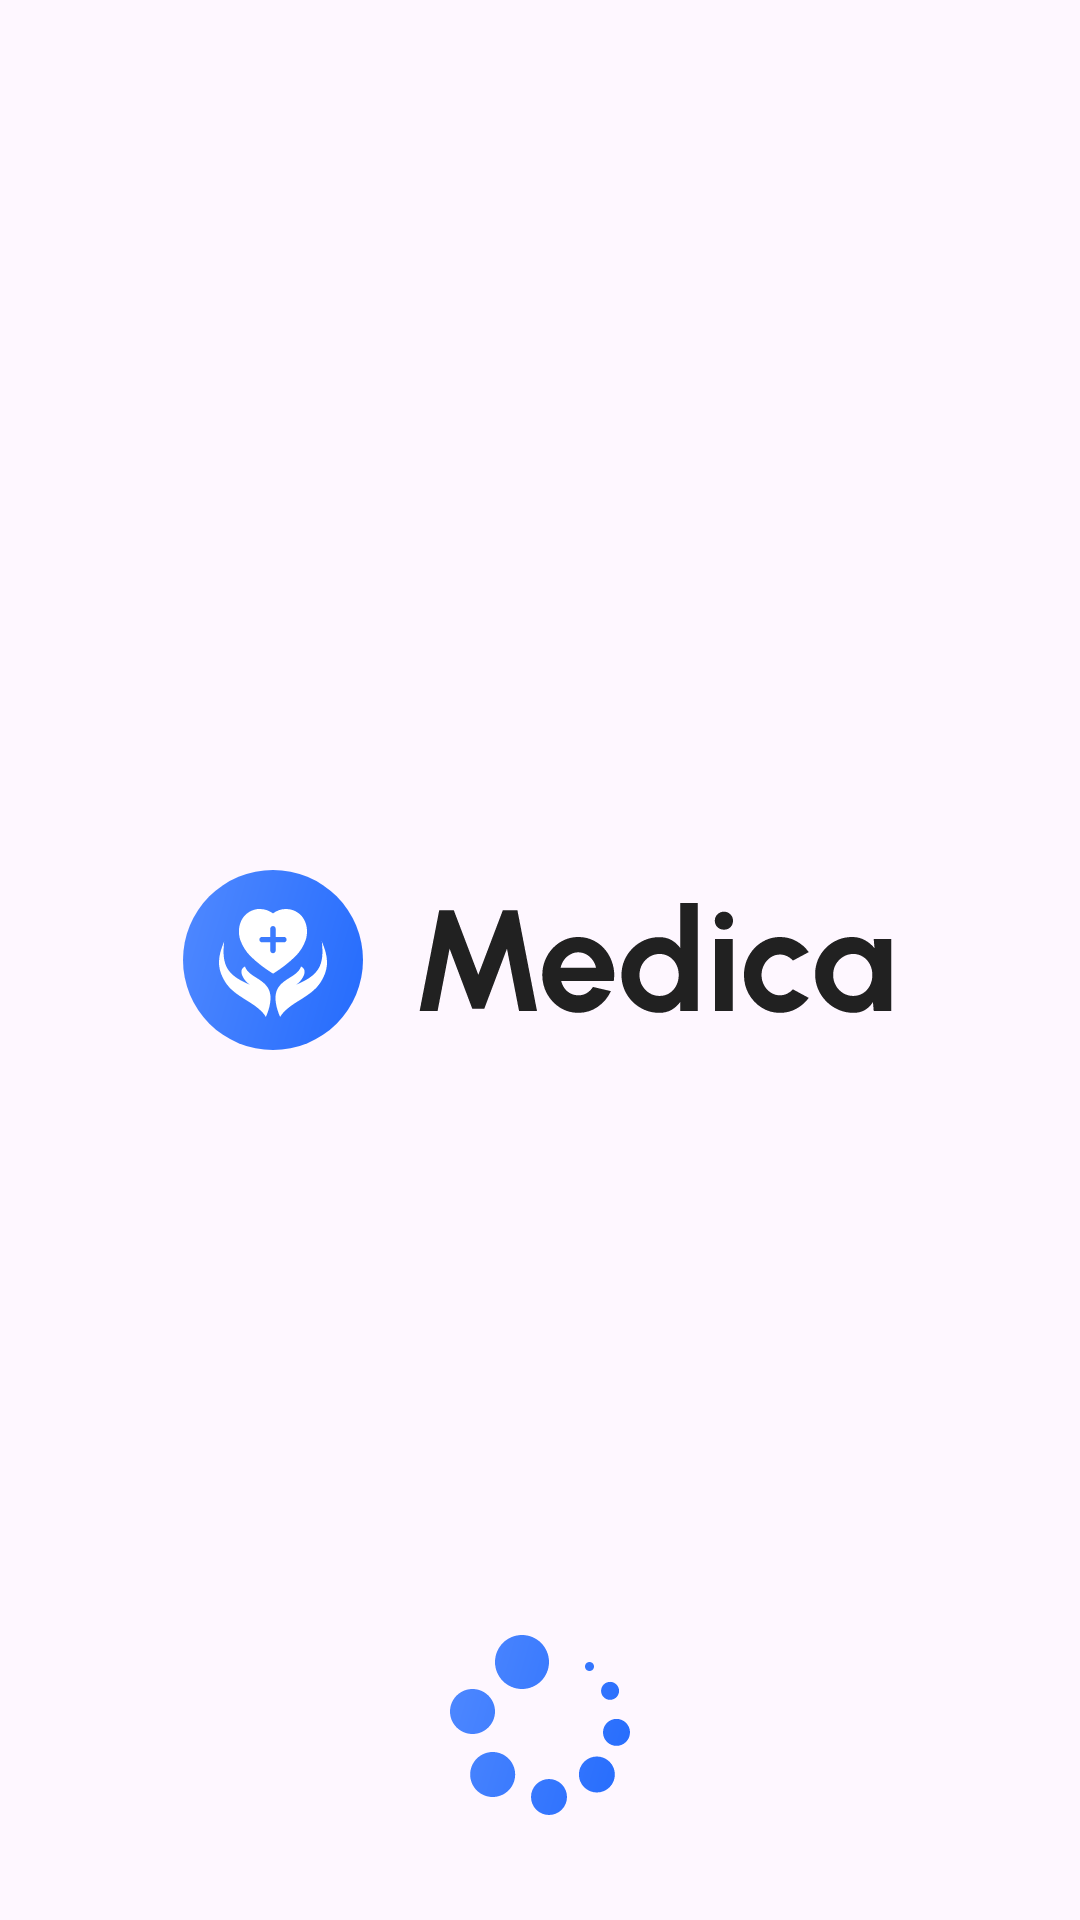

Where to tap for icons on this 1080w x 1920h app screen, as [x,y]:
loading: [540,1725]
